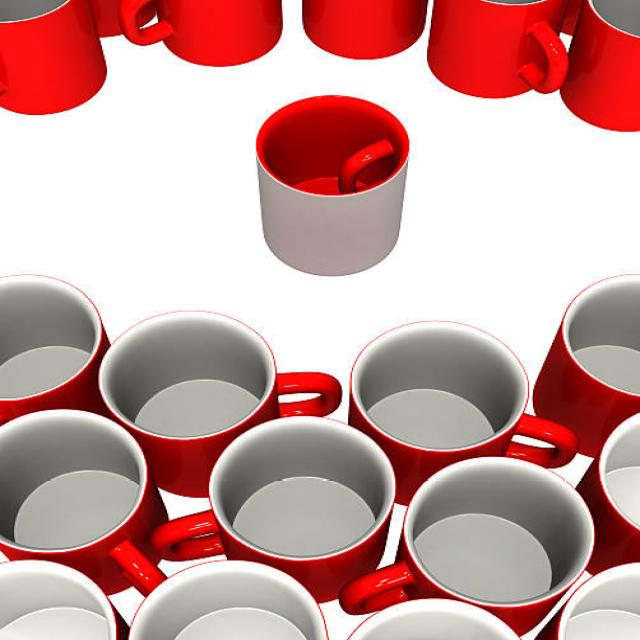Red_cup: (340, 457, 594, 635), (152, 418, 395, 602), (100, 312, 341, 496), (350, 322, 577, 505), (0, 410, 167, 595), (257, 96, 409, 276), (533, 276, 639, 458), (0, 276, 109, 423), (129, 561, 327, 639), (429, 0, 568, 98), (0, 0, 107, 113), (120, 0, 283, 65), (561, 0, 639, 131), (0, 561, 128, 639), (578, 415, 639, 574), (537, 563, 639, 639), (304, 0, 427, 59), (349, 599, 518, 639), (91, 0, 122, 37), (563, 0, 583, 35)
